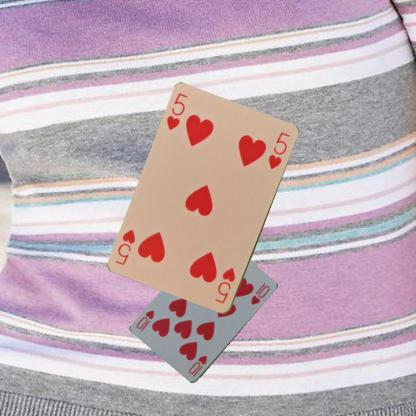10h: (186, 353, 209, 378)
5h: (164, 91, 189, 132), (213, 265, 237, 305)
